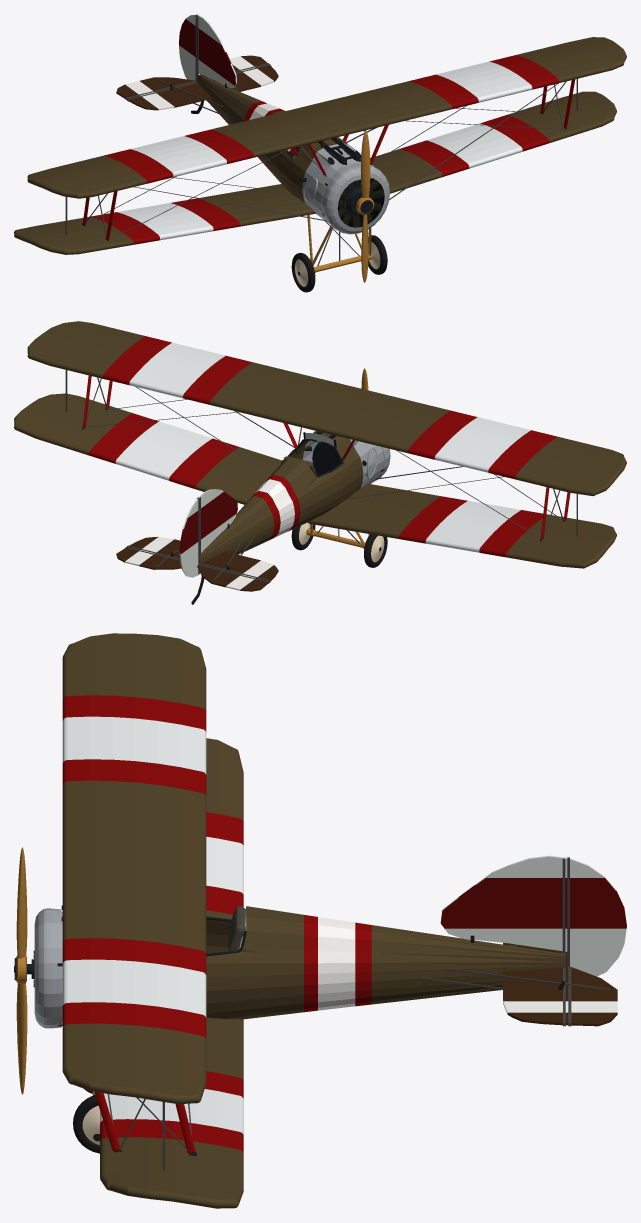
The model's file is Sopwith Camel.fbx.
The picture shows the model from 3 angles, top to bottom: view 1: azimuth 30°, elevation 25°; view 2: azimuth 150°, elevation 25°; view 3: azimuth 270°, elevation 25°; orthographic projection. The views are drawn at different scales.
Parts seen in each view (by area): view 1: swcamel:Layer1, swcamel:Layer2; view 2: swcamel:Layer1; view 3: swcamel:Layer1, swcamel:Layer2.
Part boxes in pixels (x1,y1,x2,y2): swcamel:Layer1: [14, 14, 626, 292]; swcamel:Layer2: [356, 130, 374, 282]; swcamel:Layer1: [14, 321, 626, 604]; swcamel:Layer1: [27, 633, 626, 1208]; swcamel:Layer2: [14, 847, 27, 1094].
Size of the model in its own units: 2343 by 655 by 1309.
